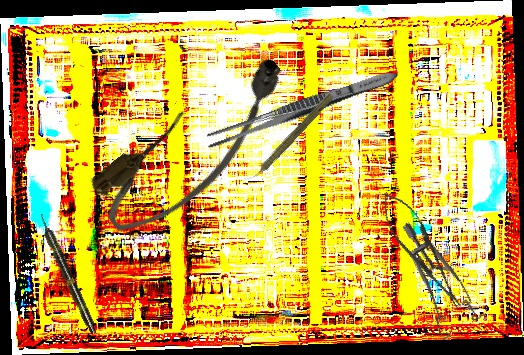Cannula: (82, 45, 311, 248)
Dressing Forceps: (201, 64, 402, 153)
Handpiece: (242, 89, 336, 189), (36, 212, 99, 336)
Needle Holder: (370, 184, 473, 317)
Speculum: (363, 221, 503, 351)
